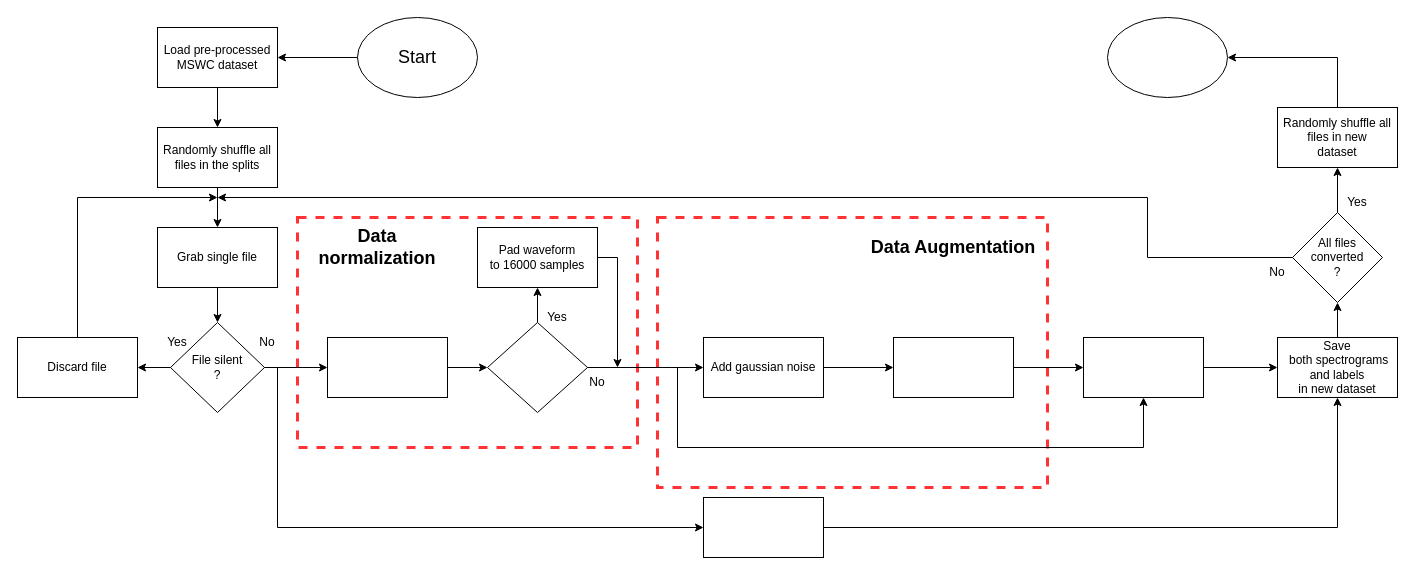
The diagram is 1415 pixels wide and 575 high, and some of its shapes have lost their labels. The box of each missing label's shape, as (x1, y1, x2, y2) in pixels:
Convert to spectrogram: (1082, 336, 1204, 398)
Decode WAV and normalize waveform: (326, 336, 448, 398)
End (continue to training): (1106, 16, 1228, 98)
File < 1 sec ?: (486, 322, 588, 412)
Get label of file: (702, 496, 824, 558)
Randomly shift along time axis: (892, 336, 1014, 398)
